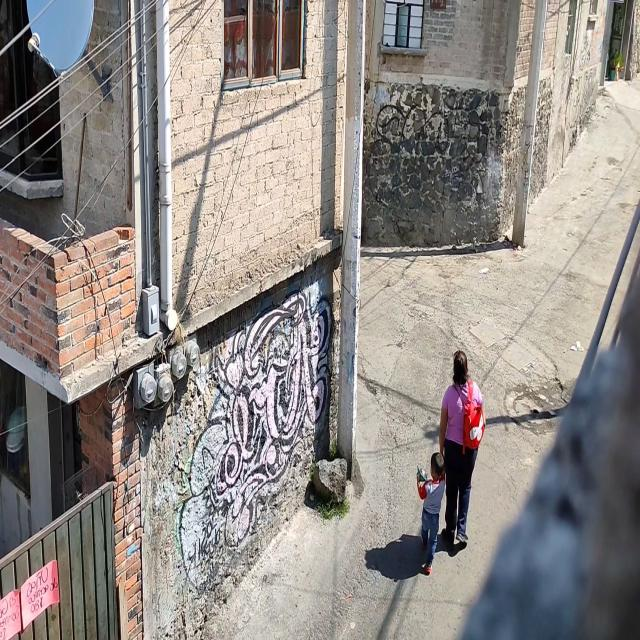adult: (439, 348, 484, 554)
child: (415, 449, 447, 574)
